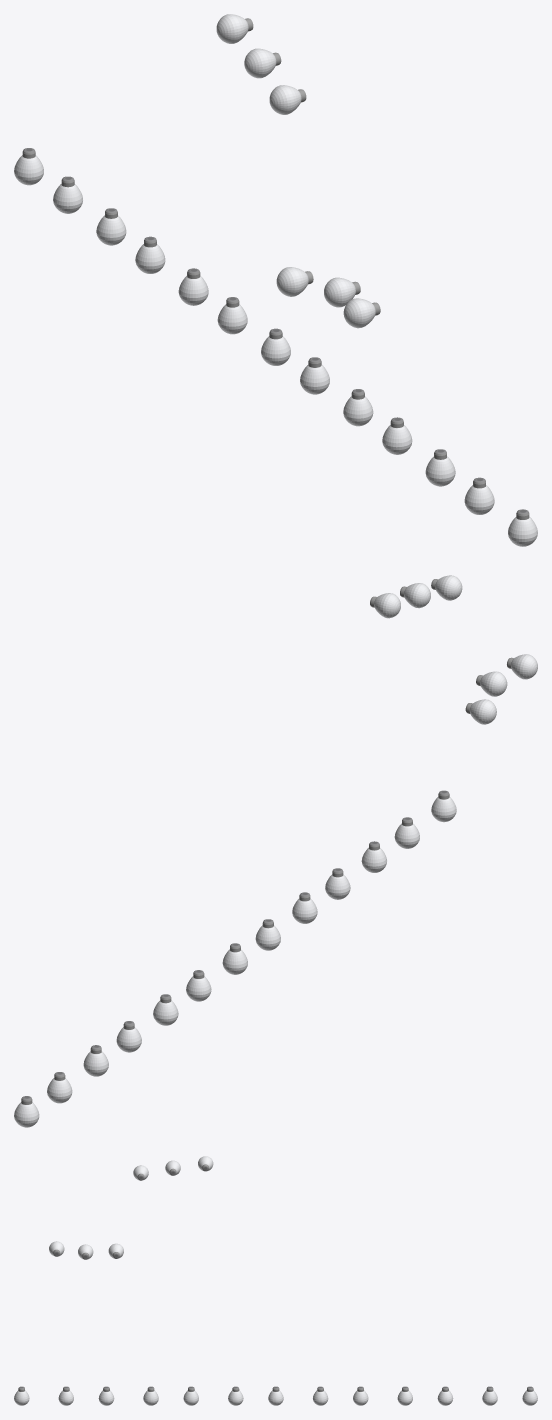
Rendered from bulbs.fbx.
The picture shows the model from 3 angles, top to bottom: view 1: azimuth 30°, elevation 25°; view 2: azimuth 150°, elevation 25°; view 3: azimuth 270°, elevation 25°; orthographic projection. The views are drawn at different scales.
Visible parts, largest first — view 1: bulb_2.001, bulb_1.004, bulb_2.005, bulb_2.002, bulb_1.003, bulb_1, bulb_2.012, bulb_1.002, bulb_2.004, bulb_2.006, bulb_2.003, bulb_2 (+7 smaller); view 2: no part large enough to name; view 3: no part large enough to name.
Part boxes in pixels (box(x1,y1,x2,y2)): bulb_2.001: box(96, 208, 126, 245); bulb_1.004: box(382, 417, 412, 454); bulb_2.005: box(425, 449, 455, 486); bulb_2.002: box(178, 268, 208, 305); bulb_1.003: box(300, 357, 329, 394); bulb_1: box(53, 176, 82, 213); bulb_2.012: box(276, 267, 313, 296); bulb_1.002: box(217, 297, 247, 334); bulb_2.004: box(343, 389, 373, 426); bulb_2.006: box(508, 509, 537, 546); bulb_2.003: box(261, 328, 290, 365); bulb_2: box(14, 148, 43, 185).
Bounding box in the file's own units: 232 × 573 × 1237.
